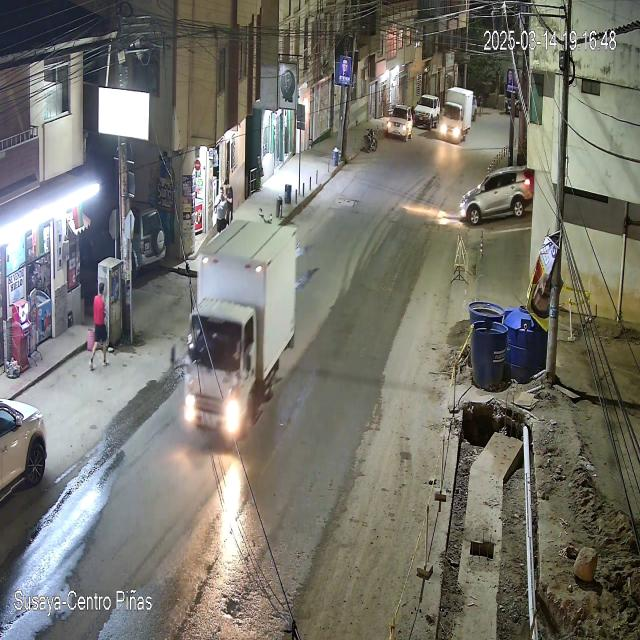SUV: (459, 165, 533, 226)
TRUCK: (185, 220, 296, 442), (440, 87, 474, 144)
